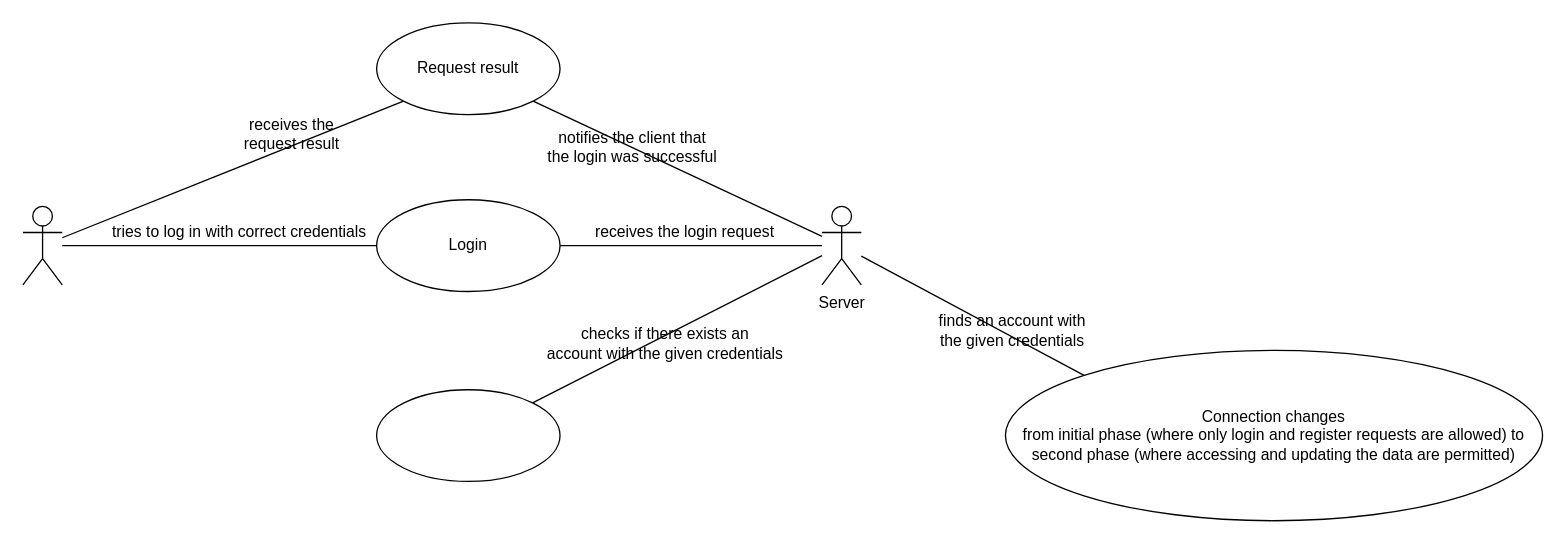
Some shapes in this 1565 by 544 pixel diagram are drawn without their labels. The shapes that lost their labels are listed below. From the top down, each one's centre as x and y in pixels, then its label:
At point (42, 245): "User".
At point (467, 434): "Database read operation".
